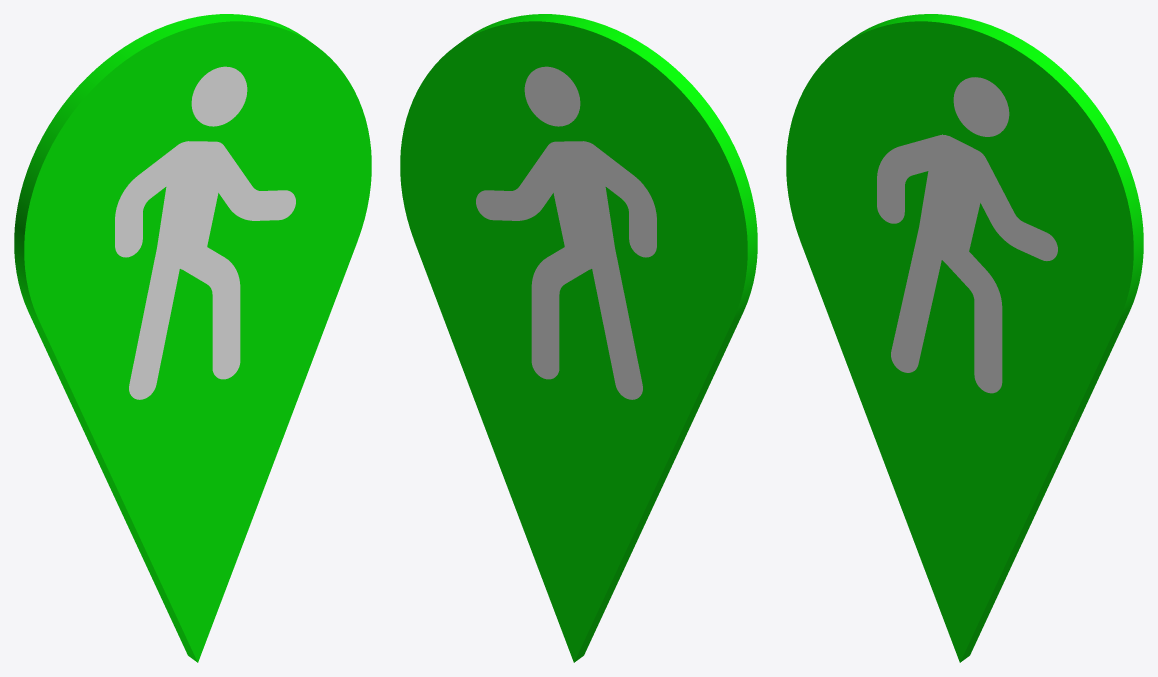
File: green-walk (1).glb
The picture shows the model from 3 angles, left to right: view 1: azimuth 30°, elevation 25°; view 2: azimuth 150°, elevation 25°; view 3: azimuth 330°, elevation 25°; orthographic projection.
Parts seen in each view (by area): view 1: Layer 01, Layer 02; view 2: Layer 01, Layer 02; view 3: Layer 01, Layer 02.
Part boxes in pixels (bbox=[...]): Layer 01: bbox=[14, 14, 371, 662]; Layer 02: bbox=[115, 66, 295, 399]; Layer 01: bbox=[400, 14, 757, 662]; Layer 02: bbox=[476, 66, 656, 399]; Layer 01: bbox=[786, 14, 1143, 662]; Layer 02: bbox=[877, 77, 1057, 393].
Bounding box in the file's own units: 5.71 × 10 × 0.2857.
